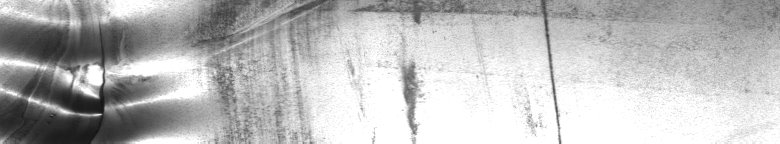ke: (4, 4, 420, 136)
